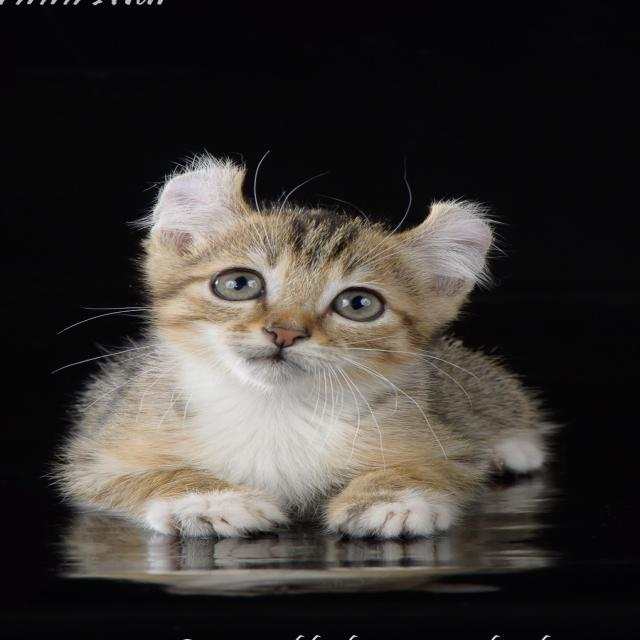American Curl: (42, 162, 564, 544)
